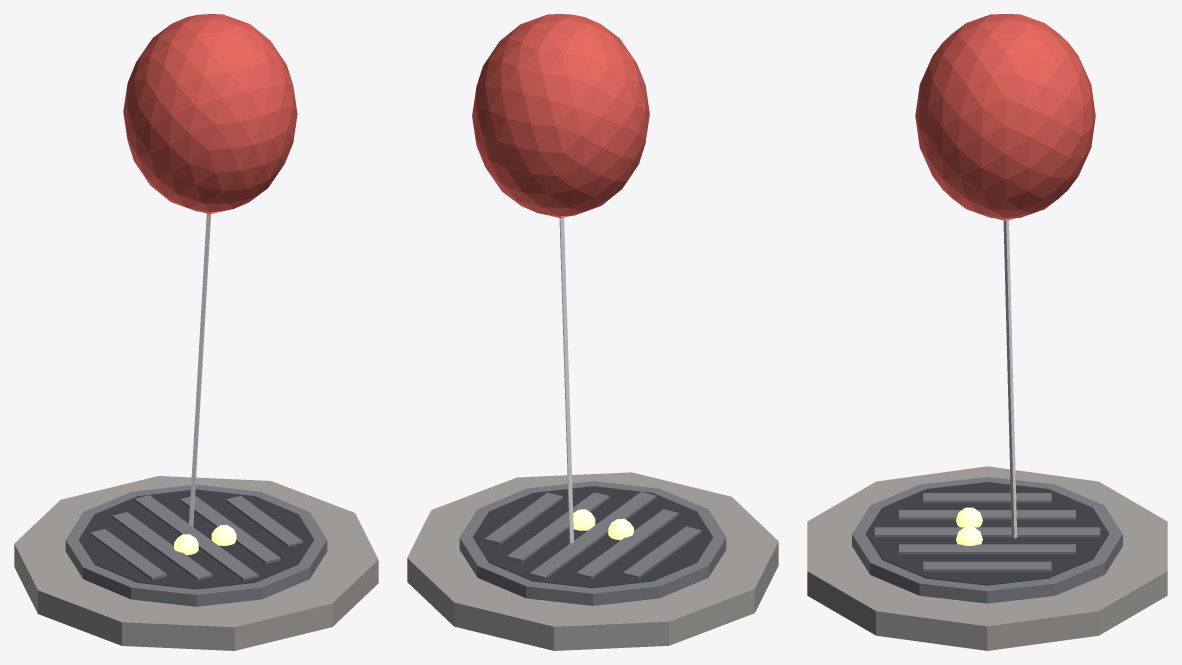
3 views of the same model, side by side, from view 1: azimuth 30°, elevation 25°; view 2: azimuth 150°, elevation 25°; view 3: azimuth 270°, elevation 25° (orthographic). The views are drawn at different scales.
Parts seen in each view (by area): view 1: rot_11, stein_0, schwarz_2, metall_dunkel_1, metall_dunkel_5, weiss_10, metall_dunkel_4, metall_dunkel_6, metall_dunkel_3, metall_dunkel_7; view 2: rot_11, stein_0, schwarz_2, metall_dunkel_1, metall_dunkel_5, weiss_10, metall_dunkel_4, metall_dunkel_6, metall_dunkel_7, metall_dunkel_3; view 3: rot_11, stein_0, schwarz_2, metall_dunkel_1, metall_dunkel_5, weiss_10, metall_dunkel_6, metall_dunkel_4, metall_dunkel_7, metall_dunkel_3.
Boxes of the visible parts, bbox=[...] form: rot_11: bbox=[123, 14, 297, 211]; stein_0: bbox=[14, 476, 378, 650]; schwarz_2: bbox=[78, 489, 314, 589]; metall_dunkel_1: bbox=[65, 484, 327, 606]; metall_dunkel_5: bbox=[134, 495, 258, 580]; weiss_10: bbox=[189, 213, 211, 526]; metall_dunkel_4: bbox=[112, 512, 212, 580]; metall_dunkel_6: bbox=[180, 495, 280, 563]; metall_dunkel_3: bbox=[90, 529, 166, 579]; metall_dunkel_7: bbox=[226, 496, 302, 546]; rot_11: bbox=[472, 14, 649, 215]; stein_0: bbox=[407, 472, 778, 650]; schwarz_2: bbox=[473, 486, 712, 588]; metall_dunkel_1: bbox=[459, 481, 726, 605]; metall_dunkel_5: bbox=[529, 492, 656, 579]; weiss_10: bbox=[559, 217, 573, 543]; metall_dunkel_4: bbox=[576, 509, 678, 578]; metall_dunkel_6: bbox=[507, 492, 609, 561]; metall_dunkel_7: bbox=[484, 492, 562, 544]; metall_dunkel_3: bbox=[623, 526, 701, 578]; rot_11: bbox=[915, 14, 1095, 218]; stein_0: bbox=[807, 466, 1167, 650]; schwarz_2: bbox=[865, 482, 1109, 585]; metall_dunkel_1: bbox=[852, 477, 1122, 603]; metall_dunkel_5: bbox=[874, 527, 1100, 537]; weiss_10: bbox=[1003, 220, 1017, 538]; metall_dunkel_6: bbox=[899, 544, 1075, 554]; metall_dunkel_4: bbox=[899, 510, 1075, 519]; metall_dunkel_7: bbox=[923, 561, 1051, 571]; metall_dunkel_3: bbox=[923, 493, 1051, 502].
Bounding box in the file's own units: 0.84 × 1.38 × 0.7989.
